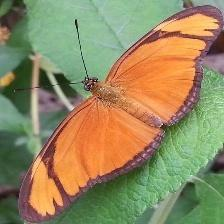butterfly: (19, 6, 223, 223)
